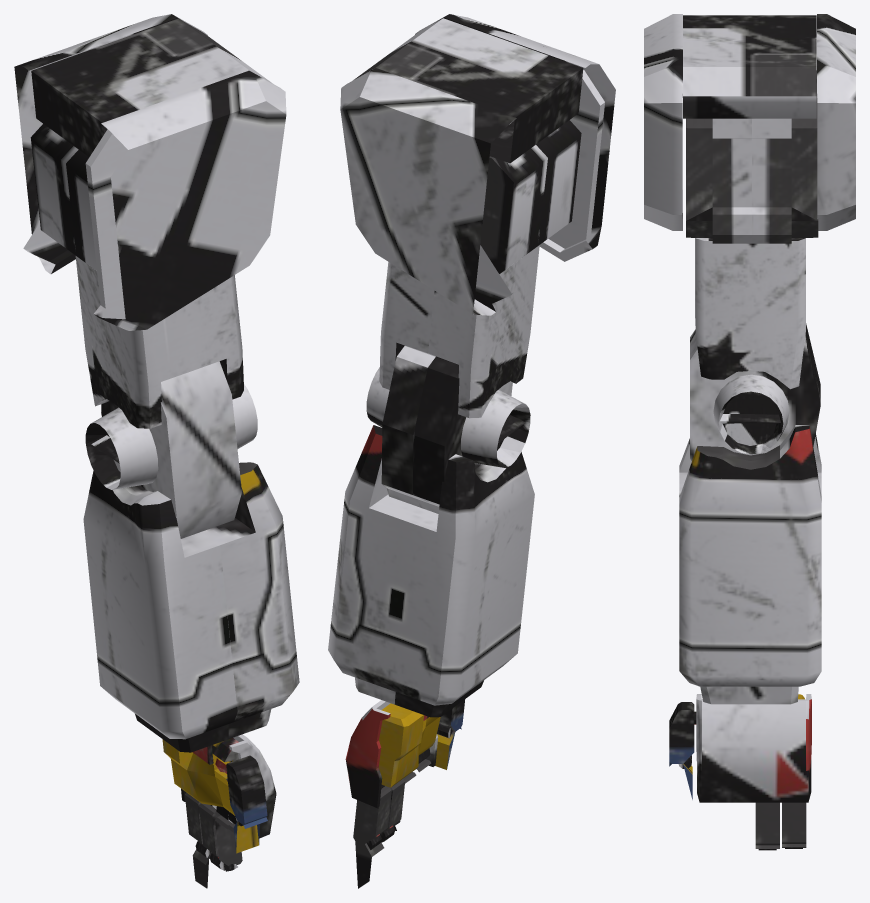
File: hand2.obj
The picture shows the model from 3 angles, left to right: view 1: azimuth 30°, elevation 25°; view 2: azimuth 150°, elevation 25°; view 3: azimuth 270°, elevation 25°; orthographic projection. The views are drawn at different scales.
Visible parts, largest first — view 1: Gundam:polySurface666; view 2: Gundam:polySurface666; view 3: Gundam:polySurface666.
Boxes of the visible parts, x1,y1,x2,y2 form: Gundam:polySurface666: (14, 14, 299, 888); Gundam:polySurface666: (328, 14, 615, 888); Gundam:polySurface666: (644, 14, 855, 850).
Bounding box in the file's own units: 3.03 × 11.54 × 2.73.
1 material, 1 textured.
